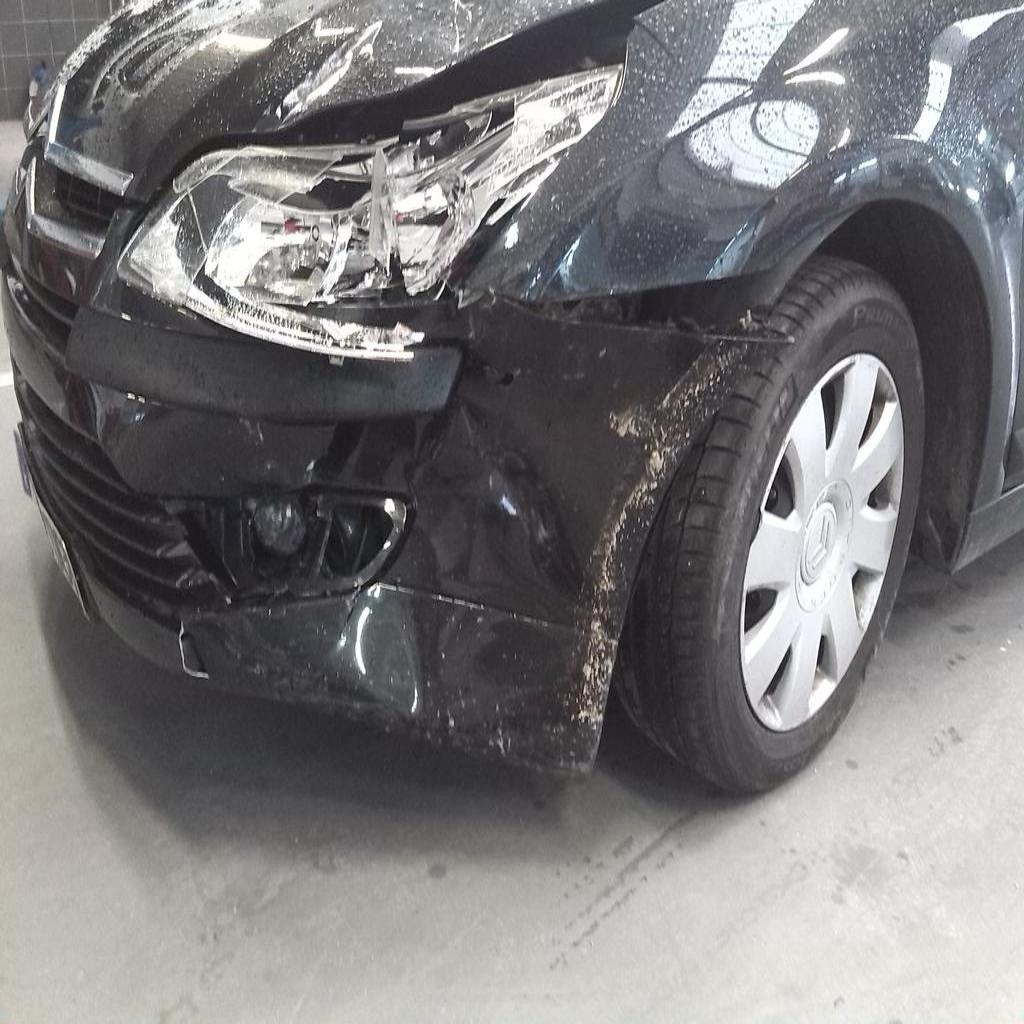Broken-glass: (160, 104, 613, 309)
Dent: (65, 239, 780, 761)
Scratch: (558, 350, 714, 730)
